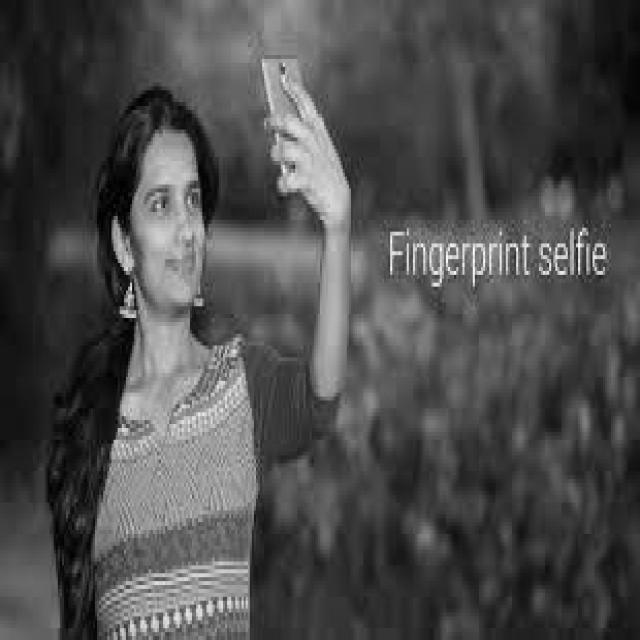No gun_phone: (262, 58, 305, 174)
